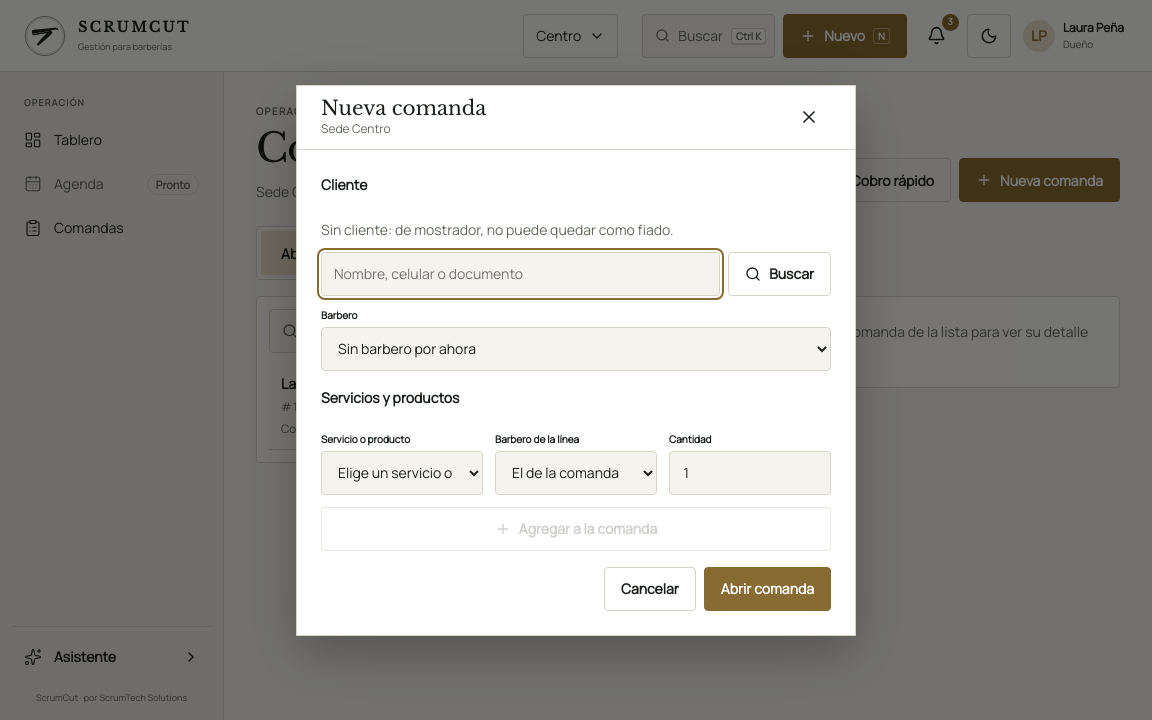
Test: formulario de comanda › muestra junto a cada campo el error de validación del servidor
Expected: the form named "Abrir la comanda" is shown, [321,308,831,610]
Select "Ana" in the dropdown labelled "Barbero": (576, 348) [321,326,831,370]
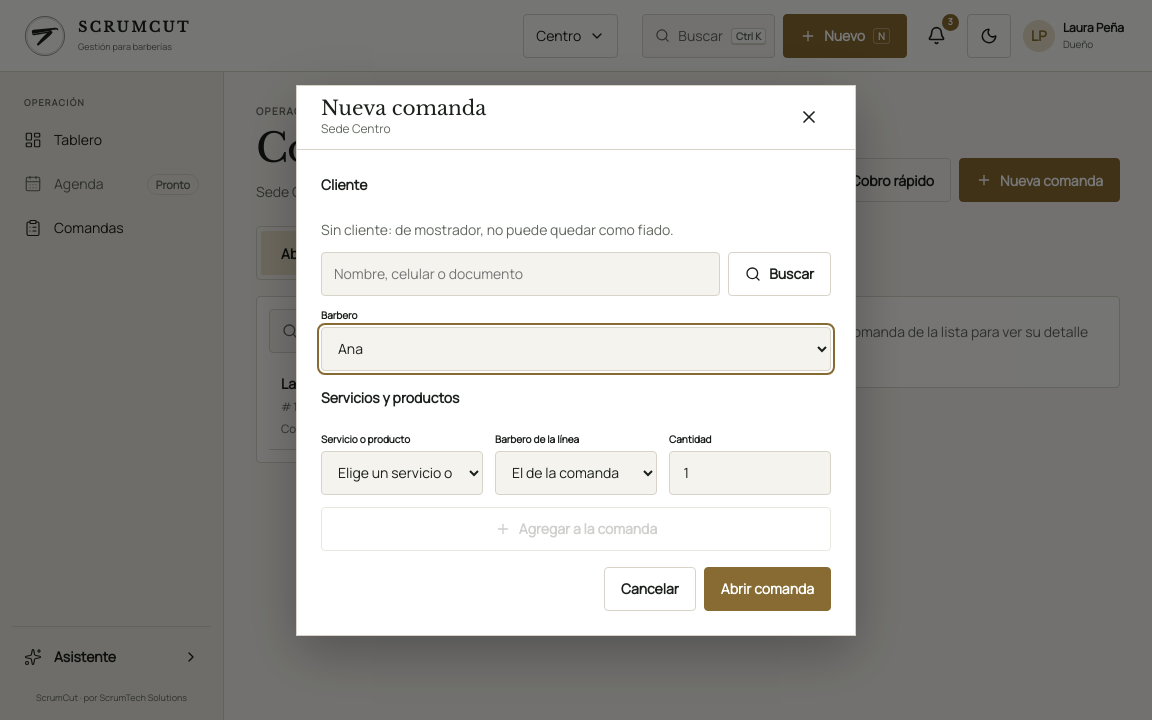
Click the button "Abrir comanda": (767, 588) [704,566,831,610]
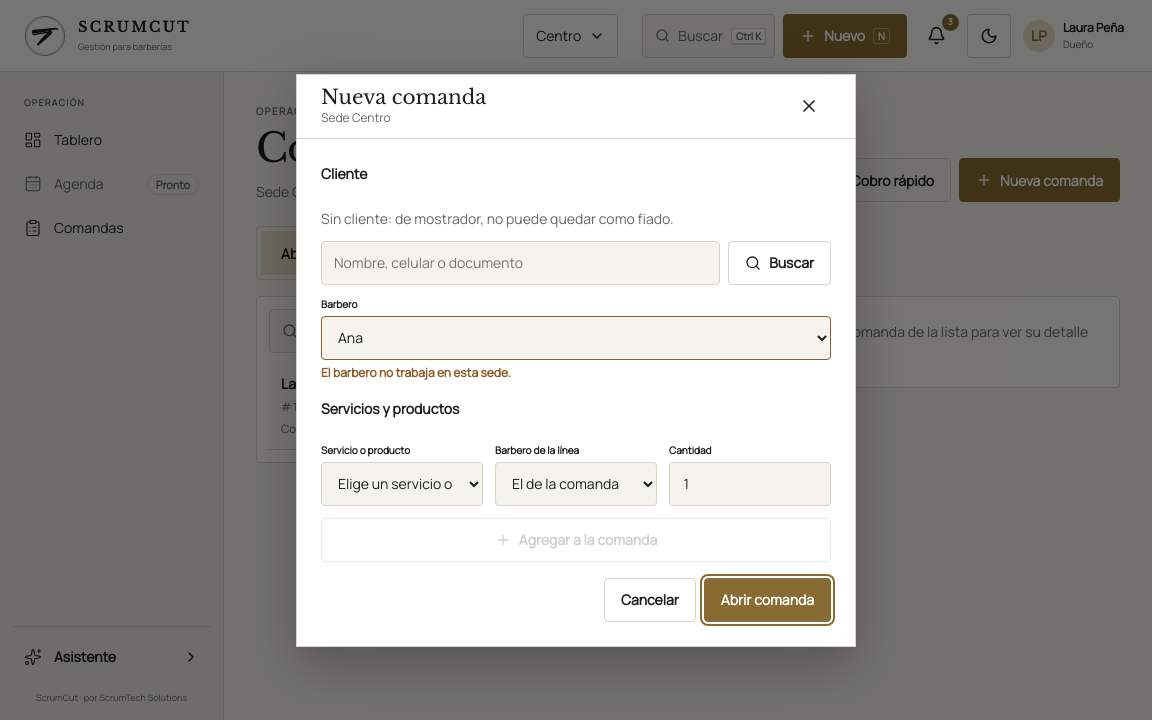
Now the text "El barbero no trabaja en esta sede." is shown, box [321,364,511,380]
